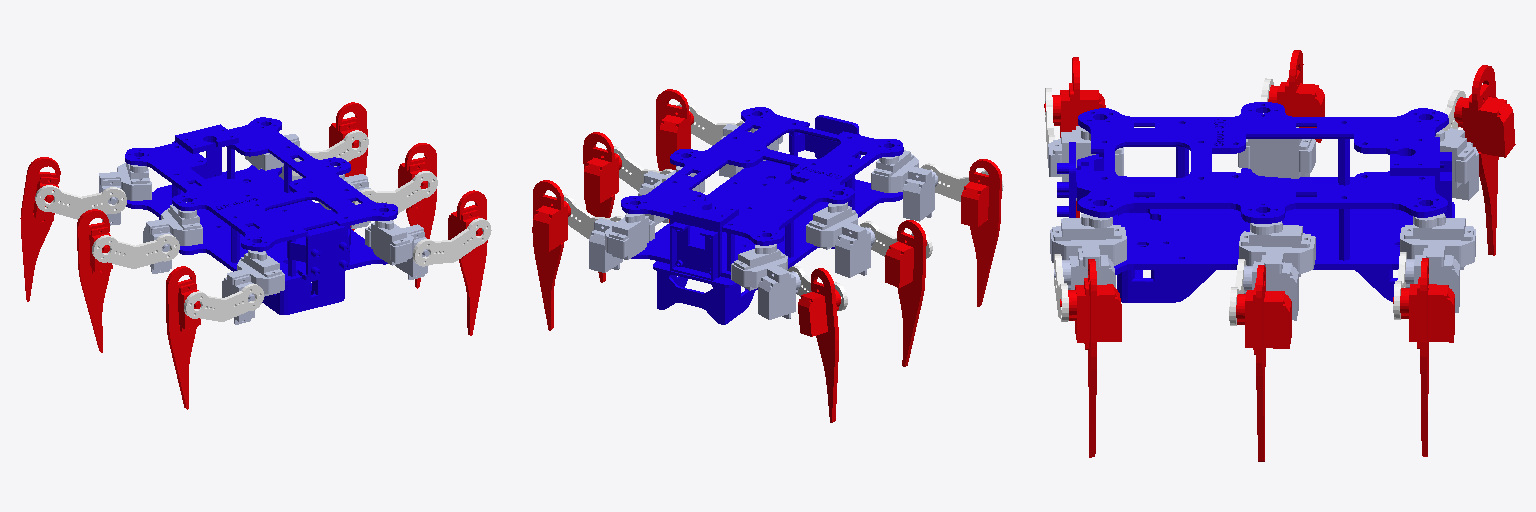
--- What the picture shows (computed from the rendered views, not written in the file) ---
The picture shows the robot from 3 angles, left to right: view 1: azimuth 30°, elevation 25°; view 2: azimuth 150°, elevation 25°; view 3: azimuth 270°, elevation 25°; orthographic projection.
Robot: myhexapod_description — 19 links, 18 joints (18 continuous); root link base_link; default pose: all joints at 0.
Links seen in each view (by area): view 1: base_link, link3_l2, link3_l1, link3_l3, link3_l6, link1_l6, link1_l1, link2_l2, link3_l5, link2_l3, link1_l2, link2_l1 (+6 smaller); view 2: base_link, link3_l1, link3_l2, link1_l3, link3_l4, link3_l3, link1_l2, link1_l1, link1_l4, link3_l5, link3_l6, link2_l6 (+5 smaller); view 3: base_link, link3_l3, link1_l5, link1_l4, link1_l6, link3_l5, link3_l6, link3_l4, link1_l2, link3_l2, link1_l3, link3_l1 (+3 smaller).
Link boxes in pixels (x1=…): base_link: x1=125, y1=117, x2=397, y2=314; link3_l2: x1=77, y1=209, x2=112, y2=352; link3_l1: x1=166, y1=266, x2=200, y2=409; link3_l3: x1=20, y1=157, x2=60, y2=301; link3_l6: x1=448, y1=190, x2=487, y2=335; link1_l6: x1=365, y1=220, x2=429, y2=279; link1_l1: x1=222, y1=250, x2=284, y2=324; link2_l2: x1=92, y1=234, x2=179, y2=268; link3_l5: x1=398, y1=143, x2=436, y2=288; link2_l3: x1=35, y1=185, x2=126, y2=219; link1_l2: x1=143, y1=202, x2=202, y2=273; link2_l1: x1=184, y1=284, x2=263, y2=321; base_link: x1=621, y1=107, x2=903, y2=324; link3_l1: x1=961, y1=159, x2=1001, y2=306; link3_l2: x1=885, y1=220, x2=926, y2=366; link1_l3: x1=731, y1=244, x2=800, y2=319; link3_l4: x1=532, y1=180, x2=570, y2=330; link3_l3: x1=798, y1=268, x2=840, y2=422; link1_l2: x1=806, y1=202, x2=875, y2=277; link1_l1: x1=871, y1=150, x2=937, y2=221; link1_l4: x1=589, y1=213, x2=654, y2=272; link3_l5: x1=583, y1=132, x2=621, y2=282; link3_l6: x1=656, y1=89, x2=693, y2=222; link2_l6: x1=677, y1=103, x2=744, y2=145; base_link: x1=1057, y1=102, x2=1454, y2=302; link3_l3: x1=1454, y1=65, x2=1515, y2=255; link1_l5: x1=1239, y1=221, x2=1315, y2=320; link1_l4: x1=1398, y1=213, x2=1475, y2=312; link1_l6: x1=1050, y1=213, x2=1126, y2=289; link3_l5: x1=1236, y1=265, x2=1291, y2=461; link3_l6: x1=1060, y1=259, x2=1121, y2=457; link3_l4: x1=1393, y1=258, x2=1454, y2=456; link1_l2: x1=1238, y1=127, x2=1315, y2=178; link3_l2: x1=1268, y1=50, x2=1324, y2=142; link1_l3: x1=1435, y1=128, x2=1478, y2=200; link3_l1: x1=1044, y1=57, x2=1105, y2=217.
Bounding box of the posed robot: 0.2557 × 0.219 × 0.1057 m (x, y, z).
Meshes: 19 distinct files referenced, 19 mesh visuals loaded (19 binary STL).

URDF robot description (myhexapod_description):
<?xml version="1.0" encoding="utf-8"?>
<!-- This URDF was automatically created by SolidWorks to URDF Exporter! Originally created by Stephen Brawner ([email redacted]) 
     Commit Version: 1.6.0-1-g15f4949  Build Version: 1.6.7594.29634
     For more information, please see http://wiki.ros.org/sw_urdf_exporter -->
<robot
  name="myhexapod_description">
  <link
    name="base_link">
    <inertial>
      <origin
        xyz="-0.000641062587610375 -0.0270610806424069 0.0130383041801076"
        rpy="0 0 0" />
      <mass
        value="0.154954966549661" />
      <inertia
        ixx="0.000288482455992446"
        ixy="1.34615337721131E-07"
        ixz="-2.19476667889284E-09"
        iyy="0.000102286533156623"
        iyz="-1.87029729705504E-06"
        izz="0.00037996489569889" />
    </inertial>
    <visual>
      <origin
        xyz="0 0 0"
        rpy="0 0 0" />
      <geometry>
        <mesh
          filename="package://myhexapod_description/meshes/base_link.STL" />
      </geometry>
      <material
        name="">
        <color
          rgba="0.141176470588235 0.00784313725490196 1 1" />
      </material>
    </visual>
    <collision>
      <origin
        xyz="0 0 0"
        rpy="0 0 0" />
      <geometry>
        <mesh
          filename="package://myhexapod_description/meshes/base_link.STL" />
      </geometry>
    </collision>
  </link>
  <link
    name="link1_l1">
    <inertial>
      <origin
        xyz="-0.00806224601063825 -0.00672597588241393 -0.0222013878562005"
        rpy="0 0 0" />
      <mass
        value="0.0173848381350191" />
      <inertia
        ixx="1.80098683466882E-06"
        ixy="2.71142412938623E-08"
        ixz="1.76406239213805E-08"
        iyy="1.03469767138463E-06"
        iyz="9.20330157264301E-09"
        izz="1.46962126426456E-06" />
    </inertial>
    <visual>
      <origin
        xyz="0 0 0"
        rpy="0 0 0" />
      <geometry>
        <mesh
          filename="package://myhexapod_description/meshes/link1_l1.STL" />
      </geometry>
      <material
        name="">
        <color
          rgba="0.792156862745098 0.819607843137255 0.933333333333333 1" />
      </material>
    </visual>
    <collision>
      <origin
        xyz="0 0 0"
        rpy="0 0 0" />
      <geometry>
        <mesh
          filename="package://myhexapod_description/meshes/link1_l1.STL" />
      </geometry>
    </collision>
  </link>
  <joint
    name="joint1_l1"
    type="continuous">
    <origin
      xyz="-0.0471900957377952 -0.0846909980170476 0.0333"
      rpy="0 0 0" />
    <parent
      link="base_link" />
    <child
      link="link1_l1" />
    <axis
      xyz="0 0 -1" />
  </joint>
  <link
    name="link2_l1">
    <inertial>
      <origin
        xyz="-0.0207284792608098 -0.00457298257654315 -6.32878782574897E-05"
        rpy="0 0 0" />
      <mass
        value="0.00241602750324229" />
      <inertia
        ixx="7.84746554197057E-08"
        ixy="-2.18303559732558E-08"
        ixz="6.40685205735395E-08"
        iyy="6.95959480864615E-07"
        iyz="2.26223346089884E-09"
        izz="6.22650508720032E-07" />
    </inertial>
    <visual>
      <origin
        xyz="0 0 0"
        rpy="0 0 0" />
      <geometry>
        <mesh
          filename="package://myhexapod_description/meshes/link2_l1.STL" />
      </geometry>
      <material
        name="">
        <color
          rgba="1 1 1 0.9" />
      </material>
    </visual>
    <collision>
      <origin
        xyz="0 0 0"
        rpy="0 0 0" />
      <geometry>
        <mesh
          filename="package://myhexapod_description/meshes/link2_l1.STL" />
      </geometry>
    </collision>
  </link>
  <joint
    name="joint2_l1"
    type="continuous">
    <origin
      xyz="-0.0173549775040496 -0.0185853143585623 -0.0243000000000001"
      rpy="0 0 0" />
    <parent
      link="link1_l1" />
    <child
      link="link2_l1" />
    <axis
      xyz="0.0352876033106527 -0.999377198585494 0" />
  </joint>
  <link
    name="link3_l1">
    <inertial>
      <origin
        xyz="-0.0017555342898588 0.0100933773966093 -0.0104738727826697"
        rpy="0 0 0" />
      <mass
        value="0.00980520879192993" />
      <inertia
        ixx="2.67590341746477E-06"
        ixy="3.39637519317928E-09"
        ixz="1.18964160199247E-07"
        iyy="2.55009275257376E-06"
        iyz="4.77822904017731E-08"
        izz="4.6298144105811E-07" />
    </inertial>
    <visual>
      <origin
        xyz="0 0 0"
        rpy="0 0 0" />
      <geometry>
        <mesh
          filename="package://myhexapod_description/meshes/link3_l1.STL" />
      </geometry>
      <material
        name="">
        <color
          rgba="1 0.0313725490196078 0.0627450980392157 1" />
      </material>
    </visual>
    <collision>
      <origin
        xyz="0 0 0"
        rpy="0 0 0" />
      <geometry>
        <mesh
          filename="package://myhexapod_description/meshes/link3_l1.STL" />
      </geometry>
    </collision>
  </link>
  <joint
    name="joint3_l1"
    type="continuous">
    <origin
      xyz="-0.0411588142263402 -0.00145330102709124 0.0047797512185247"
      rpy="0 0 0" />
    <parent
      link="link2_l1" />
    <child
      link="link3_l1" />
    <axis
      xyz="-0.0352876033106511 0.999377198585494 0" />
  </joint>
  <link
    name="link1_l2">
    <inertial>
      <origin
        xyz="-0.00710042179359962 0.00727262552574385 -0.0222013878562004"
        rpy="0 0 0" />
      <mass
        value="0.017384838135019" />
      <inertia
        ixx="1.77701480207914E-06"
        ixy="-1.36125062093018E-07"
        ixz="3.18145809512914E-08"
        iyy="1.05866970397431E-06"
        iyz="7.40362709343975E-08"
        izz="1.46962126426456E-06" />
    </inertial>
    <visual>
      <origin
        xyz="0 0 0"
        rpy="0 0 0" />
      <geometry>
        <mesh
          filename="package://myhexapod_description/meshes/link1_l2.STL" />
      </geometry>
      <material
        name="">
        <color
          rgba="0.792156862745098 0.819607843137255 0.933333333333333 1" />
      </material>
    </visual>
    <collision>
      <origin
        xyz="0 0 0"
        rpy="0 0 0" />
      <geometry>
        <mesh
          filename="package://myhexapod_description/meshes/link1_l2.STL" />
      </geometry>
    </collision>
  </link>
  <joint
    name="joint1_l2"
    type="continuous">
    <origin
      xyz="-0.0547460900589758 -0.00891354966241674 0.0333000000000001"
      rpy="0 0 0" />
    <parent
      link="base_link" />
    <child
      link="link1_l2" />
    <axis
      xyz="0 0 -1" />
  </joint>
  <link
    name="link2_l2">
    <inertial>
      <origin
        xyz="-0.0221179474264141 -0.00489499778216674 0.000354952301372807"
        rpy="0 0 0" />
      <mass
        value="0.00241602750324229" />
      <inertia
        ixx="1.00495695982353E-07"
        ixy="1.09214191161804E-07"
        ixz="7.3744760369015E-08"
        iyy="6.76725190743576E-07"
        iyz="-1.3508062558812E-08"
        izz="6.19863758278428E-07" />
    </inertial>
    <visual>
      <origin
        xyz="0 0 0"
        rpy="0 0 0" />
      <geometry>
        <mesh
          filename="package://myhexapod_description/meshes/link2_l2.STL" />
      </geometry>
      <material
        name="">
        <color
          rgba="1 1 1 0.9" />
      </material>
    </visual>
    <collision>
      <origin
        xyz="0 0 0"
        rpy="0 0 0" />
      <geometry>
        <mesh
          filename="package://myhexapod_description/meshes/link2_l2.STL" />
      </geometry>
    </collision>
  </link>
  <joint
    name="joint2_l2"
    type="continuous">
    <origin
      xyz="-0.0177054207597022 0.00324315829430281 -0.0243"
      rpy="0 0 0" />
    <parent
      link="link1_l2" />
    <child
      link="link2_l2" />
    <axis
      xyz="-0.180175460794602 -0.983634486650124 0" />
  </joint>
  <link
    name="link3_l2">
    <inertial>
      <origin
        xyz="-0.000312121590769401 0.00533120047156848 -0.0104904932407494"
        rpy="0 0 0" />
      <mass
        value="0.00980520879192992" />
      <inertia
        ixx="2.66809055091214E-06"
        ixy="-2.32210800768185E-08"
        ixz="1.53550230931468E-07"
        iyy="2.5545549293717E-06"
        iyz="1.61362010316771E-08"
        izz="4.66332130812788E-07" />
    </inertial>
    <visual>
      <origin
        xyz="0 0 0"
        rpy="0 0 0" />
      <geometry>
        <mesh
          filename="package://myhexapod_description/meshes/link3_l2.STL" />
      </geometry>
      <material
        name="">
        <color
          rgba="1 0.0313725490196078 0.0627450980392157 1" />
      </material>
    </visual>
    <collision>
      <origin
        xyz="0 0 0"
        rpy="0 0 0" />
      <geometry>
        <mesh
          filename="package://myhexapod_description/meshes/link3_l2.STL" />
      </geometry>
    </collision>
  </link>
  <joint
    name="joint3_l2"
    type="continuous">
    <origin
      xyz="-0.0404081437582719 0.00740168835102142 0.00560383990402152"
      rpy="0 0 0" />
    <parent
      link="link2_l2" />
    <child
      link="link3_l2" />
    <axis
      xyz="0.180175460794602 0.983634486650124 0" />
  </joint>
  <link
    name="link1_l3">
    <inertial>
      <origin
        xyz="-0.00559630373279337 0.159627292837933 -0.0222013878562003"
        rpy="0 0 0" />
      <mass
        value="0.017384838135019" />
      <inertia
        ixx="1.68583311520164E-06"
        ixy="-2.75165132808249E-07"
        ixz="4.70849584426385E-08"
        iyy="1.1498513908518E-06"
        iyz="6.53952877769699E-08"
        izz="1.46962126426456E-06" />
    </inertial>
    <visual>
      <origin
        xyz="0 0 0"
        rpy="0 0 0" />
      <geometry>
        <mesh
          filename="package://myhexapod_description/meshes/link1_l3.STL" />
      </geometry>
      <material
        name="">
        <color
          rgba="0.792156862745098 0.819607843137255 0.933333333333333 1" />
      </material>
    </visual>
    <collision>
      <origin
        xyz="0 0 0"
        rpy="0 0 0" />
      <geometry>
        <mesh
          filename="package://myhexapod_description/meshes/link1_l3.STL" />
      </geometry>
    </collision>
  </link>
  <joint
    name="joint1_l3"
    type="continuous">
    <origin
      xyz="-0.0471900957377952 -0.0846909980170476 0.0333"
      rpy="0 0 0" />
    <parent
      link="base_link" />
    <child
      link="link1_l3" />
    <axis
      xyz="0 0 -1" />
  </joint>
  <link
    name="link2_l3">
    <inertial>
      <origin
        xyz="-0.0188207467364196 0.00907835344817356 -0.000555639138620834"
        rpy="0 0 0" />
      <mass
        value="0.0024160275032423" />
      <inertia
        ixx="1.68972312493501E-07"
        ixy="2.22717643256588E-07"
        ixz="4.71610141228835E-08"
        iyy="6.02741864720202E-07"
        iyz="-1.99022850063415E-08"
        izz="6.25370467790657E-07" />
    </inertial>
    <visual>
      <origin
        xyz="0 0 0"
        rpy="0 0 0" />
      <geometry>
        <mesh
          filename="package://myhexapod_description/meshes/link2_l3.STL" />
      </geometry>
      <material
        name="">
        <color
          rgba="1 1 1 0.9" />
      </material>
    </visual>
    <collision>
      <origin
        xyz="0 0 0"
        rpy="0 0 0" />
      <geometry>
        <mesh
          filename="package://myhexapod_description/meshes/link2_l3.STL" />
      </geometry>
    </collision>
  </link>
  <joint
    name="joint2_l3"
    type="continuous">
    <origin
      xyz="-0.0208009289168688 0.148560267673523 -0.0243"
      rpy="0 0 0" />
    <parent
      link="link1_l3" />
    <child
      link="link2_l3" />
    <axis
      xyz="-0.388803857549591 -0.92132055244337 0" />
  </joint>
  <link
    name="link3_l3">
    <inertial>
      <origin
        xyz="0.00266988679925712 0.199705379975006 -0.0110761933807784"
        rpy="0 0 0" />
      <mass
        value="0.00980520879192993" />
      <inertia
        ixx="2.64401172165923E-06"
        ixy="-3.35724891912431E-08"
        ixz="-2.07439429106529E-07"
        iyy="2.56160473008994E-06"
        iyz="1.34363357699381E-07"
        izz="4.83361159347462E-07" />
    </inertial>
    <visual>
      <origin
        xyz="0 0 0"
        rpy="0 0 0" />
      <geometry>
        <mesh
          filename="package://myhexapod_description/meshes/link3_l3.STL" />
      </geometry>
      <material
        name="">
        <color
          rgba="1 0.0313725490196078 0.0627450980392157 1" />
      </material>
    </visual>
    <collision>
      <origin
        xyz="0 0 0"
        rpy="0 0 0" />
      <geometry>
        <mesh
          filename="package://myhexapod_description/meshes/link3_l3.STL" />
      </geometry>
    </collision>
  </link>
  <joint
    name="joint3_l3"
    type="continuous">
    <origin
      xyz="-0.037712862813521 -0.168598883059176 0.00477975121852461"
      rpy="0 0 0" />
    <parent
      link="link2_l3" />
    <child
      link="link3_l3" />
    <axis
      xyz="0.388803857549592 0.92132055244337 0" />
  </joint>
  <link
    name="link1_l4">
    <inertial>
      <origin
        xyz="0.00858454154537591 0.00477409595308455 -0.0222013878562005"
        rpy="0 0 0" />
      <mass
        value="0.0173848381350191" />
      <inertia
        ixx="1.79938665850158E-06"
        ixy="-4.42585491569089E-08"
        ixz="-1.33885078663585E-08"
        iyy="1.03629784755187E-06"
        iyz="7.94649335374177E-08"
        izz="1.46962126426456E-06" />
    </inertial>
    <visual>
      <origin
        xyz="0 0 0"
        rpy="0 0 0" />
      <geometry>
        <mesh
          filename="package://myhexapod_description/meshes/link1_l4.STL" />
      </geometry>
      <material
        name="">
        <color
          rgba="0.792156862745098 0.819607843137255 0.933333333333333 1" />
      </material>
    </visual>
    <collision>
      <origin
        xyz="0 0 0"
        rpy="0 0 0" />
      <geometry>
        <mesh
          filename="package://myhexapod_description/meshes/link1_l4.STL" />
      </geometry>
    </collision>
  </link>
  <joint
    name="joint1_l4"
    type="continuous">
    <origin
      xyz="0.0471936701061024 0.0668638986922139 0.0333"
      rpy="0 0 0" />
    <parent
      link="base_link" />
    <child
      link="link1_l4" />
    <axis
      xyz="0 0 -1" />
  </joint>
  <link
    name="link2_l4">
    <inertial>
      <origin
        xyz="0.0207532049037457 -0.00269276074090919 -0.000352440731172715"
        rpy="0 0 0" />
      <mass
        value="0.0024160275032423" />
      <inertia
        ixx="7.81019403585742E-08"
        ixy="3.57786878004928E-08"
        ixz="-5.64423956478039E-08"
        iyy="6.94661023160162E-07"
        iyz="3.26437483022162E-09"
        izz="6.24321681485624E-07" />
    </inertial>
    <visual>
      <origin
        xyz="0 0 0"
        rpy="0 0 0" />
      <geometry>
        <mesh
          filename="package://myhexapod_description/meshes/link2_l4.STL" />
      </geometry>
      <material
        name="">
        <color
          rgba="1 1 1 0.9" />
      </material>
    </visual>
    <collision>
      <origin
        xyz="0 0 0"
        rpy="0 0 0" />
      <geometry>
        <mesh
          filename="package://myhexapod_description/meshes/link2_l4.STL" />
      </geometry>
    </collision>
  </link>
  <joint
    name="joint2_l4"
    type="continuous">
    <origin
      xyz="0.0174901594158788 -0.0093354403553265 -0.0243000000000001"
      rpy="0 0 0" />
    <parent
      link="link1_l4" />
    <child
      link="link2_l4" />
    <axis
      xyz="-0.0577390252809657 -0.998331710885517 0" />
  </joint>
  <link
    name="link3_l4">
    <inertial>
      <origin
        xyz="0.00241223215176936 0.0123790893395617 -0.0104302153534764"
        rpy="0 0 0" />
      <mass
        value="0.00980520879192993" />
      <inertia
        ixx="2.68057069459127E-06"
        ixy="-7.7323969964147E-09"
        ixz="-5.53105769727056E-08"
        iyy="2.55046755858813E-06"
        iyz="4.68385406449063E-08"
        izz="4.57939357917236E-07" />
    </inertial>
    <visual>
      <origin
        xyz="0 0 0"
        rpy="0 0 0" />
      <geometry>
        <mesh
          filename="package://myhexapod_description/meshes/link3_l4.STL" />
      </geometry>
      <material
        name="">
        <color
          rgba="1 0.0313725490196078 0.0627450980392157 1" />
      </material>
    </visual>
    <collision>
      <origin
        xyz="0 0 0"
        rpy="0 0 0" />
      <geometry>
        <mesh
          filename="package://myhexapod_description/meshes/link3_l4.STL" />
      </geometry>
    </collision>
  </link>
  <joint
    name="joint3_l4"
    type="continuous">
    <origin
      xyz="0.0411779045179998 -0.00238154517587446 0.00420886162596207"
      rpy="0 0 0" />
    <parent
      link="link2_l4" />
    <child
      link="link3_l4" />
    <axis
      xyz="-0.0577390252809635 -0.998331710885517 0" />
  </joint>
  <link
    name="link1_l5">
    <inertial>
      <origin
        xyz="0.00873927365415988 0.00519006764743294 -0.0222013878562002"
        rpy="0 0 0" />
      <mass
        value="0.017384838135019" />
      <inertia
        ixx="1.79700109923434E-06"
        ixy="-6.14289985686242E-08"
        ixz="-1.15918878895549E-08"
        iyy="1.0386834068191E-06"
        iyz="7.97468240129334E-08"
        izz="1.46962126426456E-06" />
    </inertial>
    <visual>
      <origin
        xyz="0 0 0"
        rpy="0 0 0" />
      <geometry>
        <mesh
          filename="package://myhexapod_description/meshes/link1_l5.STL" />
      </geometry>
      <material
        name="">
        <color
          rgba="0.792156862745098 0.819607843137255 0.933333333333333 1" />
      </material>
    </visual>
    <collision>
      <origin
        xyz="0 0 0"
        rpy="0 0 0" />
      <geometry>
        <mesh
          filename="package://myhexapod_description/meshes/link1_l5.STL" />
      </geometry>
    </collision>
  </link>
  <joint
    name="joint1_l5"
    type="continuous">
    <origin
      xyz="0.0547496644272887 -0.00891354966243538 0.0333"
      rpy="0 0 0" />
    <parent
      link="base_link" />
    <child
      link="link1_l5" />
    <axis
      xyz="0 0 -1" />
  </joint>
  <link
    name="link2_l5">
    <inertial>
      <origin
        xyz="0.0206900099595151 -0.00315127272238894 -0.000189656765370805"
        rpy="0 0 0" />
      <mass
        value="0.00241602750324229" />
      <inertia
        ixx="8.09394177036942E-08"
        ixy="4.95788185811713E-08"
        ixz="-6.0609072985197E-08"
        iyy="6.92738590865232E-07"
        iyz="4.87978356151068E-09"
        izz="6.23406636435432E-07" />
    </inertial>
    <visual>
      <origin
        xyz="0 0 0"
        rpy="0 0 0" />
      <geometry>
        <mesh
          filename="package://myhexapod_description/meshes/link2_l5.STL" />
      </geometry>
      <material
        name="">
        <color
          rgba="1 1 1 0.9" />
      </material>
    </visual>
    <collision>
      <origin
        xyz="0 0 0"
        rpy="0 0 0" />
      <geometry>
        <mesh
          filename="package://myhexapod_description/meshes/link2_l5.STL" />
      </geometry>
    </collision>
  </link>
  <joint
    name="joint2_l5"
    type="continuous">
    <origin
      xyz="0.0173545462599849 -0.00874026266286172 -0.0242999999999998"
      rpy="0 0 0" />
    <parent
      link="link1_l5" />
    <child
      link="link2_l5" />
    <axis
      xyz="-0.080252737926137 -0.996774547254974 0" />
  </joint>
  <link
    name="link3_l5">
    <inertial>
      <origin
        xyz="0.00241708833003226 0.0123529032428559 -0.00878674711215147"
        rpy="0 0 0" />
      <mass
        value="0.00980520879192993" />
      <inertia
        ixx="2.67852109163133E-06"
        ixy="-1.00001645453249E-08"
        ixz="-8.10719043328212E-08"
        iyy="2.55078709630884E-06"
        iyz="5.0234090402508E-08"
        izz="4.59669423156458E-07" />
    </inertial>
    <visual>
      <origin
        xyz="0 0 0"
        rpy="0 0 0" />
      <geometry>
        <mesh
          filename="package://myhexapod_description/meshes/link3_l5.STL" />
      </geometry>
      <material
        name="">
        <color
          rgba="1 0.0313725490196078 0.0627450980392157 1" />
      </material>
    </visual>
    <collision>
      <origin
        xyz="0 0 0"
        rpy="0 0 0" />
      <geometry>
        <mesh
          filename="package://myhexapod_description/meshes/link3_l5.STL" />
      </geometry>
    </collision>
  </link>
  <joint
    name="joint3_l5"
    type="continuous">
    <origin
      xyz="0.0412282335462067 -0.00331938514185891 0.00286714754488507"
      rpy="0 0 0" />
    <parent
      link="link2_l5" />
    <child
      link="link3_l5" />
    <axis
      xyz="-0.080252737926137 -0.996774547254974 0" />
  </joint>
  <link
    name="link1_l6">
    <inertial>
      <origin
        xyz="0.00867229299158234 -0.156799923922029 -0.0222013878562004"
        rpy="0 0 0" />
      <mass
        value="0.0173848381350191" />
      <inertia
        ixx="1.79837199620133E-06"
        ixy="5.22691790839105E-08"
        ixz="-1.84973613003036E-08"
        iyy="1.03731250985212E-06"
        iyz="7.3336665230342E-09"
        izz="1.46962126426456E-06" />
    </inertial>
    <visual>
      <origin
        xyz="0 0 0"
        rpy="0 0 0" />
      <geometry>
        <mesh
          filename="package://myhexapod_description/meshes/link1_l6.STL" />
      </geometry>
      <material
        name="">
        <color
          rgba="0.792156862745098 0.819607843137255 0.933333333333333 1" />
      </material>
    </visual>
    <collision>
      <origin
        xyz="0 0 0"
        rpy="0 0 0" />
      <geometry>
        <mesh
          filename="package://myhexapod_description/meshes/link1_l6.STL" />
      </geometry>
    </collision>
  </link>
  <joint
    name="joint1_l6"
    type="continuous">
    <origin
      xyz="0.0471936701061024 0.0668638986922139 0.0333"
      rpy="0 0 0" />
    <parent
      link="base_link" />
    <child
      link="link1_l6" />
    <axis
      xyz="0 0 -1" />
  </joint>
  <link
    name="link2_l6">
    <inertial>
      <origin
        xyz="0.0227094427868997 -0.160321179834648 -0.000453761122462593"
        rpy="0 0 0" />
      <mass
        value="0.0024160275032423" />
      <inertia
        ixx="7.8383638512418E-08"
        ixy="-4.22506491437897E-08"
        ixz="-5.37473177655586E-08"
        iyy="6.938433818688E-07"
        iyz="-3.67246918255262E-09"
        izz="6.24857624623141E-07" />
    </inertial>
    <visual>
      <origin
        xyz="0 0 0"
        rpy="0 0 0" />
      <geometry>
        <mesh
          filename="package://myhexapod_description/meshes/link2_l6.STL" />
      </geometry>
      <material
        name="">
        <color
          rgba="1 1 1 0.9" />
      </material>
    </visual>
    <collision>
      <origin
        xyz="0 0 0"
        rpy="0 0 0" />
      <geometry>
        <mesh
          filename="package://myhexapod_description/meshes/link2_l6.STL" />
      </geometry>
    </collision>
  </link>
  <joint
    name="joint2_l6"
    type="continuous">
    <origin
      xyz="0.0174901594158788 -0.0093354403553265 -0.0243000000000001"
      rpy="0 0 0" />
    <parent
      link="link1_l6" />
    <child
      link="link2_l6" />
    <axis
      xyz="0.0681694692047429 -0.997673756028665 0" />
  </joint>
  <link
    name="link3_l6">
    <inertial>
      <origin
        xyz="0.00348181655193414 -0.0140497997515956 0.00254707085294859"
        rpy="0 0 0" />
      <mass
        value="0.00980520879192993" />
      <inertia
        ixx="2.68084043695004E-06"
        ixy="8.60601987692669E-09"
        ixz="-5.30141833379143E-08"
        iyy="2.55057511653429E-06"
        iyz="4.00451291349846E-08"
        izz="4.57562057612305E-07" />
    </inertial>
    <visual>
      <origin
        xyz="0 0 0"
        rpy="0 0 0" />
      <geometry>
        <mesh
          filename="package://myhexapod_description/meshes/link3_l6.STL" />
      </geometry>
      <material
        name="">
        <color
          rgba="1 0.0313725490196078 0.0627450980392157 1" />
      </material>
    </visual>
    <collision>
      <origin
        xyz="0 0 0"
        rpy="0 0 0" />
      <geometry>
        <mesh
          filename="package://myhexapod_description/meshes/link3_l6.STL" />
      </geometry>
    </collision>
  </link>
  <joint
    name="joint3_l6"
    type="continuous">
    <origin
      xyz="0.0403470319862391 -0.130807993806323 -0.00896271435404228"
      rpy="0 0 0" />
    <parent
      link="link2_l6" />
    <child
      link="link3_l6" />
    <axis
      xyz="0.0681694692047429 -0.997673756028665 0" />
  </joint>
</robot>
